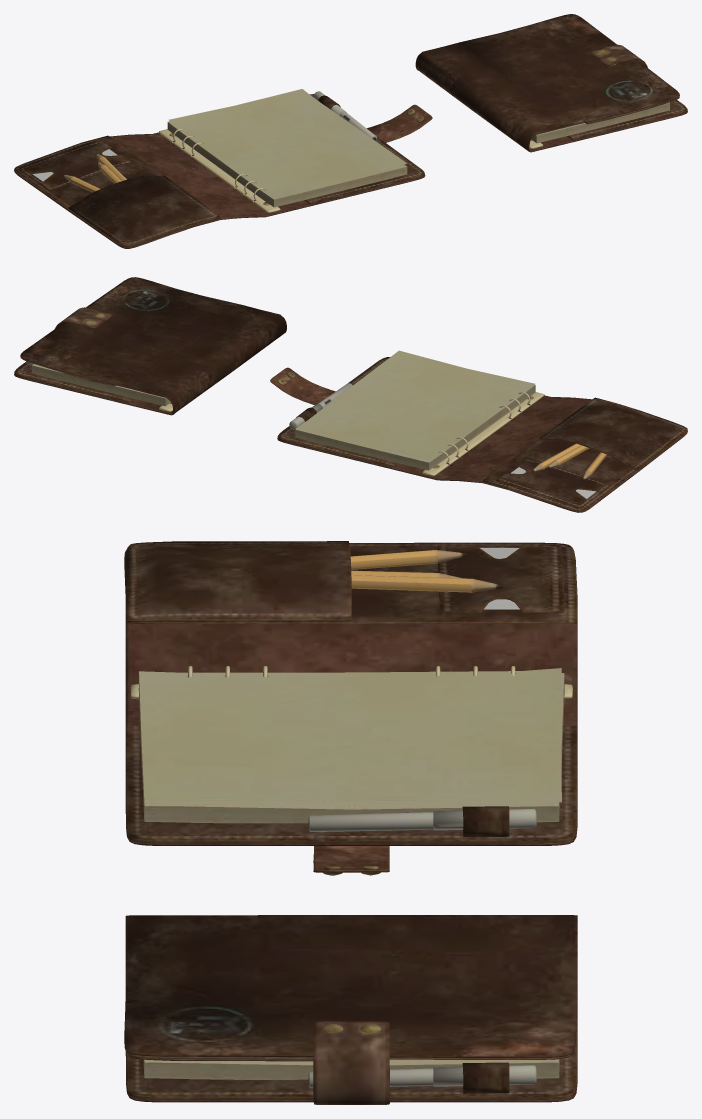
The model's file is binder_notebook.glb.
3 renders of one model, top to bottom at view 1: azimuth 30°, elevation 25°; view 2: azimuth 150°, elevation 25°; view 3: azimuth 270°, elevation 25°, orthographic. The views are drawn at different scales.
Visible parts, largest first — view 1: binder_notebook, binder_notebook_closed; view 2: binder_notebook, binder_notebook_closed; view 3: binder_notebook, binder_notebook_closed.
Boxes of the visible parts, x1,y1,x2,y2 form: binder_notebook: (14,89,432,248); binder_notebook_closed: (415,14,687,152); binder_notebook: (270,350,687,512); binder_notebook_closed: (14,277,286,415); binder_notebook: (124,541,577,875); binder_notebook_closed: (124,915,577,1104).
Bounding box in the file's own units: 0.5838 × 0.0252 × 0.1999.
1 material, 1 textured.
